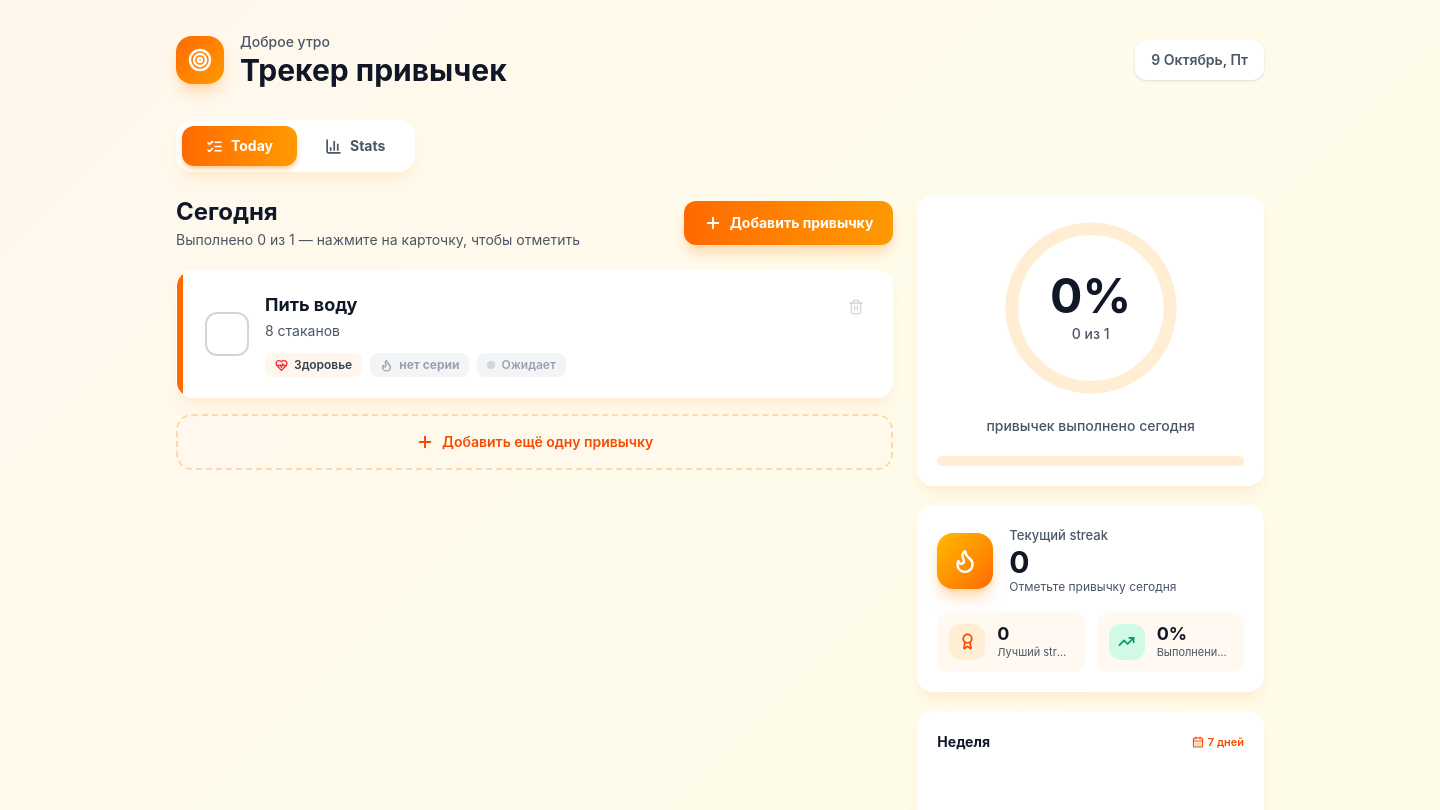
Today — добавление привычки › открывает и закрывает модалку
Click the button "Добавить привычку": [788, 223] box [684, 201, 893, 245]
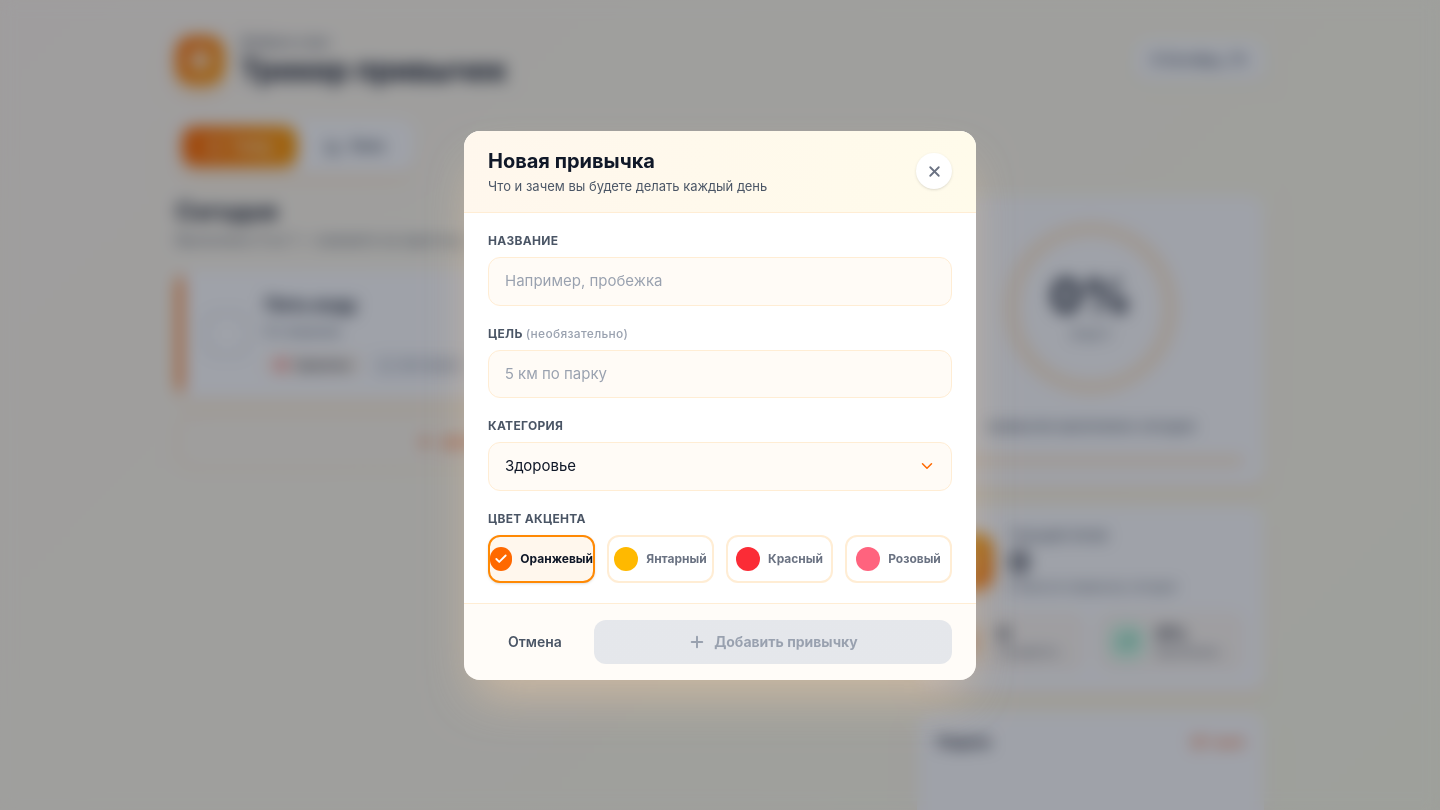
Check: the dialog is shown, box [464, 130, 976, 680]
Click the button named "Закрыть": [934, 171] box [916, 153, 952, 189]
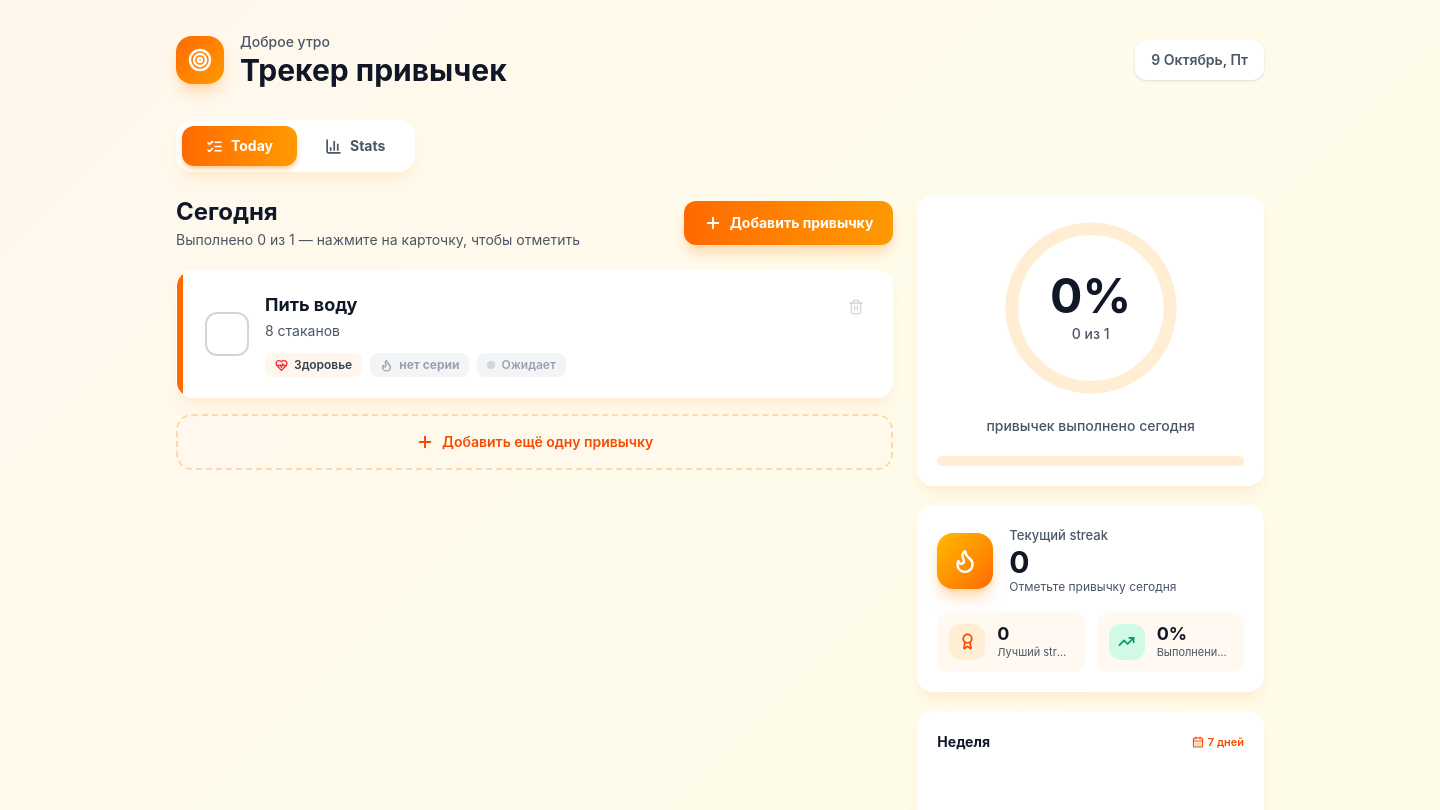
Check: the dialog is gone
